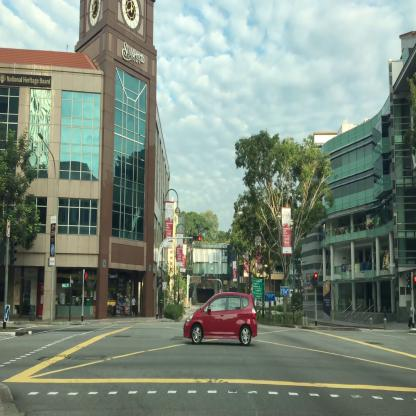red_traffic_light: (192, 235, 200, 241), (315, 272, 317, 287)
